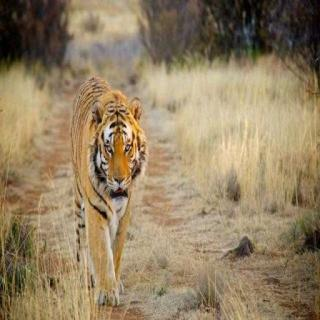Tiger: (64, 70, 162, 310)
